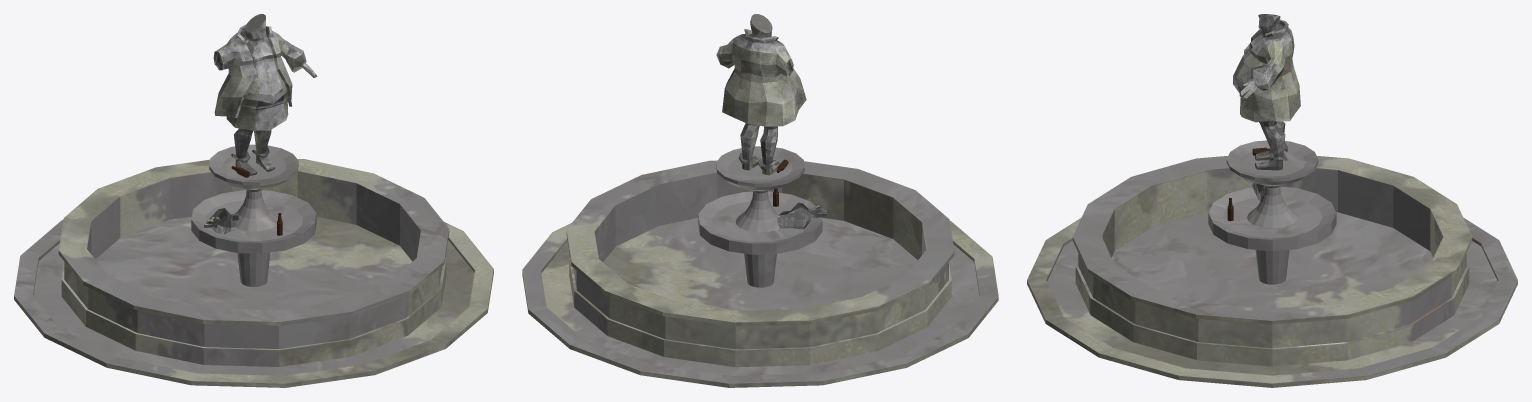
File: Fountain.fbx
The picture shows the model from 3 angles, left to right: view 1: azimuth 30°, elevation 25°; view 2: azimuth 150°, elevation 25°; view 3: azimuth 270°, elevation 25°; orthographic projection. The views are drawn at different scales.
Visible parts, largest first — view 1: Fountain; view 2: Fountain; view 3: Fountain.
Part boxes in pixels (<box>): Fountain: <box>14,14,493,387</box>; Fountain: <box>522,14,998,387</box>; Fountain: <box>1027,14,1517,387</box>.
Bounding box in the file's own units: 626 × 387 × 626.
